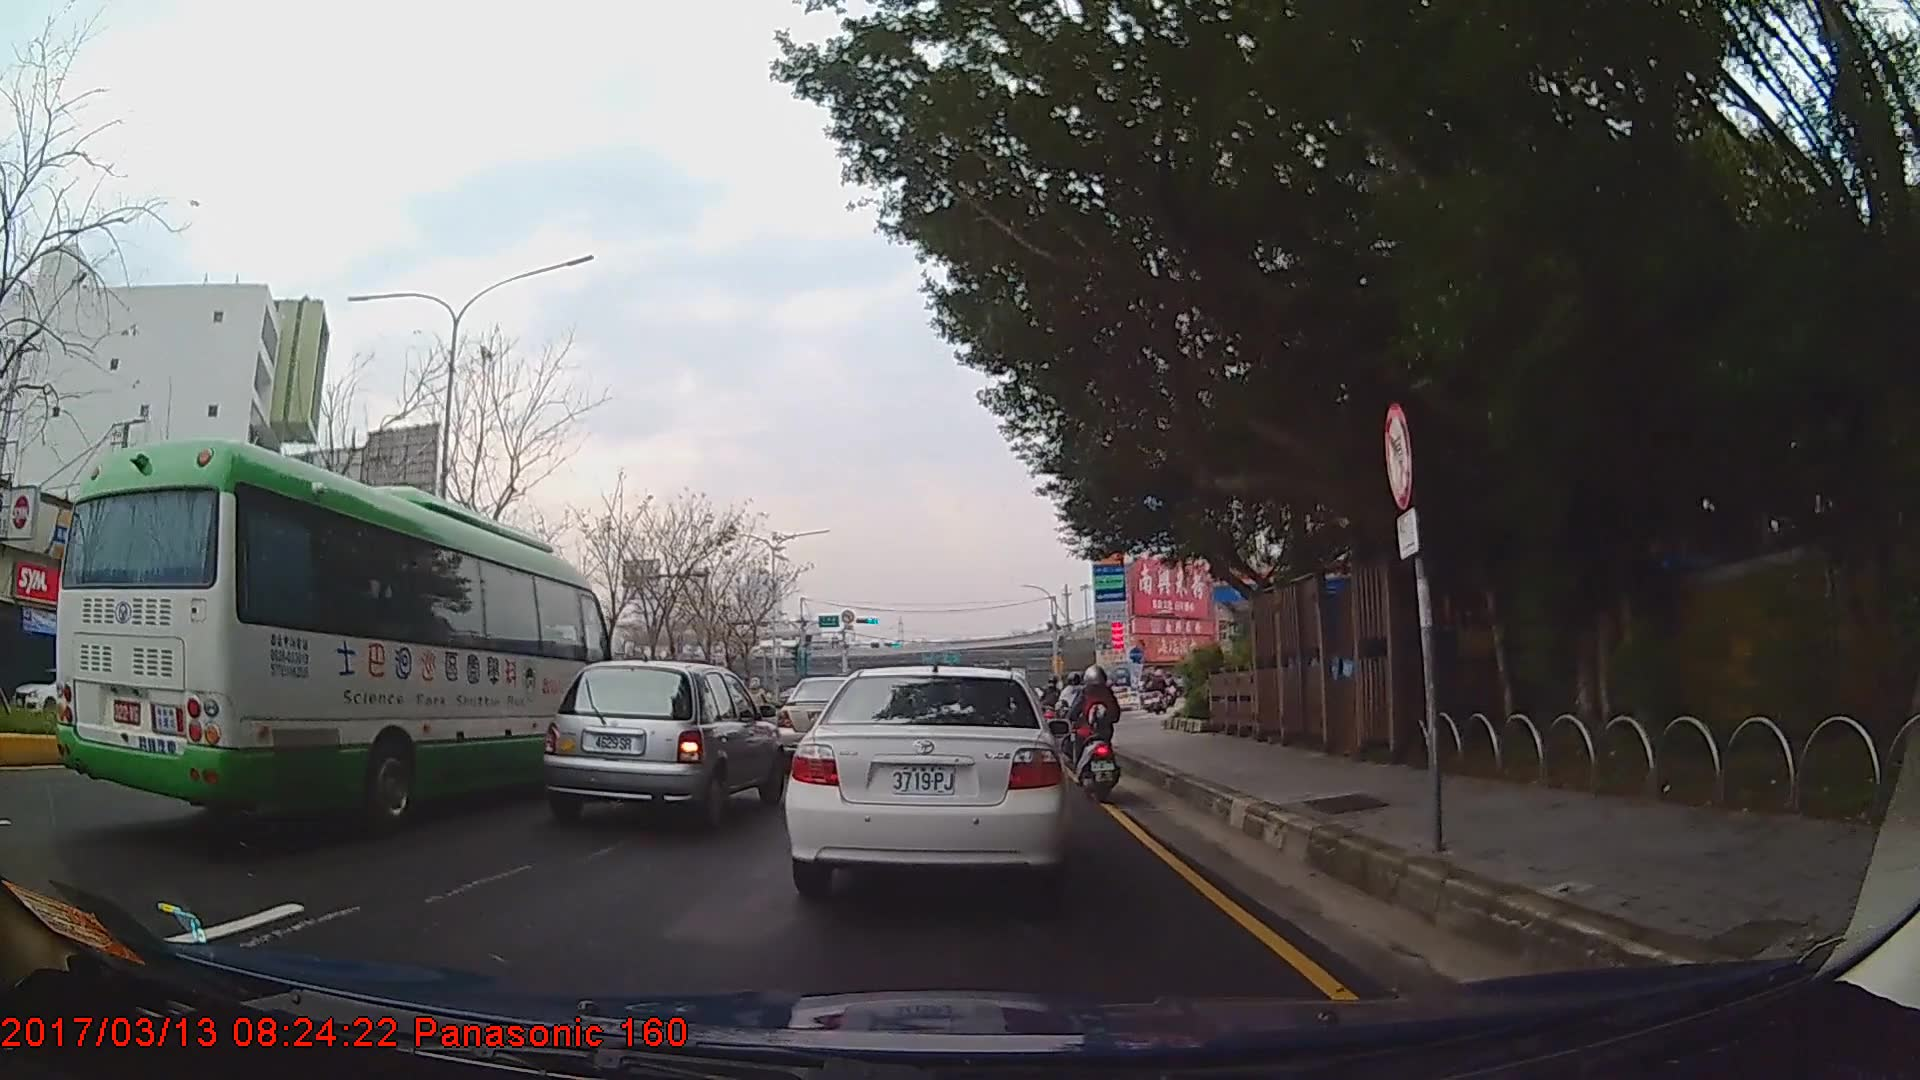rider: (1071, 663, 1120, 806), (1058, 672, 1092, 765), (1150, 670, 1170, 718)
vehicle: (54, 438, 614, 834), (782, 663, 1070, 896), (543, 655, 784, 832), (776, 674, 873, 765)
